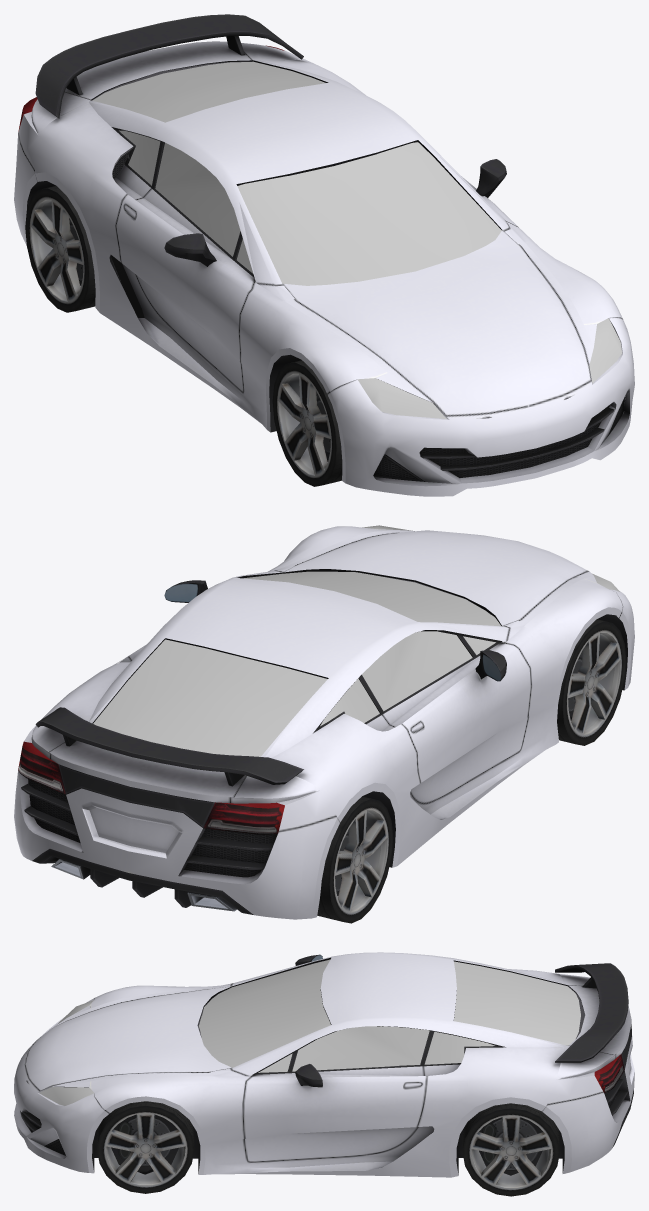
The picture shows the model from 3 angles, top to bottom: view 1: azimuth 30°, elevation 25°; view 2: azimuth 150°, elevation 25°; view 3: azimuth 270°, elevation 25°; orthographic projection. The views are drawn at different scales.
Visible parts, largest first — view 1: Body_21, Glass_21, Matte_21, Wheel_Back_R, Wheel_R, Glass_light; view 2: Body_21, Glass_21, Matte_21, Wheel_Back_R, Wheel_R, Taillights_21; view 3: Body_21, Glass_21, Matte_21, Wheel_Back_L, Wheel_L, break_L, Glass_light, Taillights_21.
Boxes of the visible parts, box(x1,y1,x2,y2) form: Body_21: box(14, 41, 634, 496); Glass_21: box(92, 61, 501, 285); Matte_21: box(27, 14, 624, 481); Wheel_Back_R: box(25, 185, 95, 312); Wheel_R: box(272, 360, 342, 486); Glass_light: box(357, 318, 621, 418); Body_21: box(14, 526, 634, 919); Glass_21: box(93, 571, 501, 756); Matte_21: box(21, 569, 627, 914); Wheel_Back_R: box(317, 796, 393, 923); Wheel_R: box(557, 619, 626, 745); Taillights_21: box(18, 741, 284, 834); Body_21: box(14, 952, 634, 1177); Glass_21: box(199, 959, 583, 1072); Matte_21: box(20, 954, 633, 1175); Wheel_Back_L: box(462, 1103, 559, 1196); Wheel_L: box(97, 1101, 194, 1193); break_L: box(111, 1115, 178, 1174); Glass_light: box(39, 1000, 94, 1105); Taillights_21: box(594, 1054, 624, 1092).
Bounding box in the file's own units: 84.89 × 49.78 × 178.
